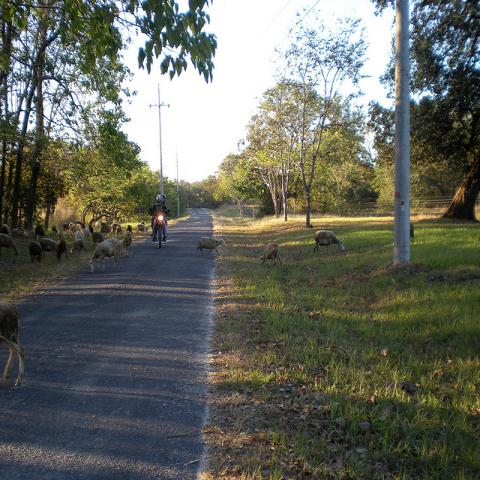motorcycle: (150, 207, 169, 250)
